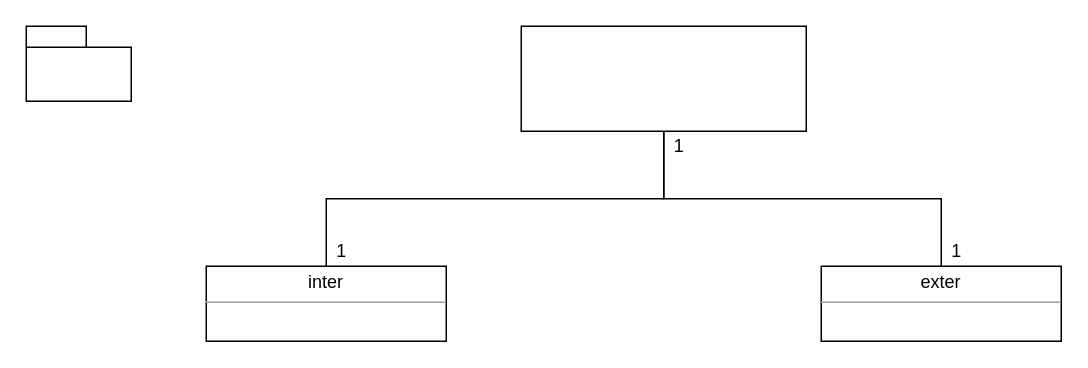
Image size: 1088x368. Some labels were removed from this diagram. The shapes that lost their labels are listed below. From the top down, each one's centre as x and y in pixels, then its label:
At (78,63): "package".
At (663,78): "<<Interface>> rosNode_Calib + calibValues(): void".
